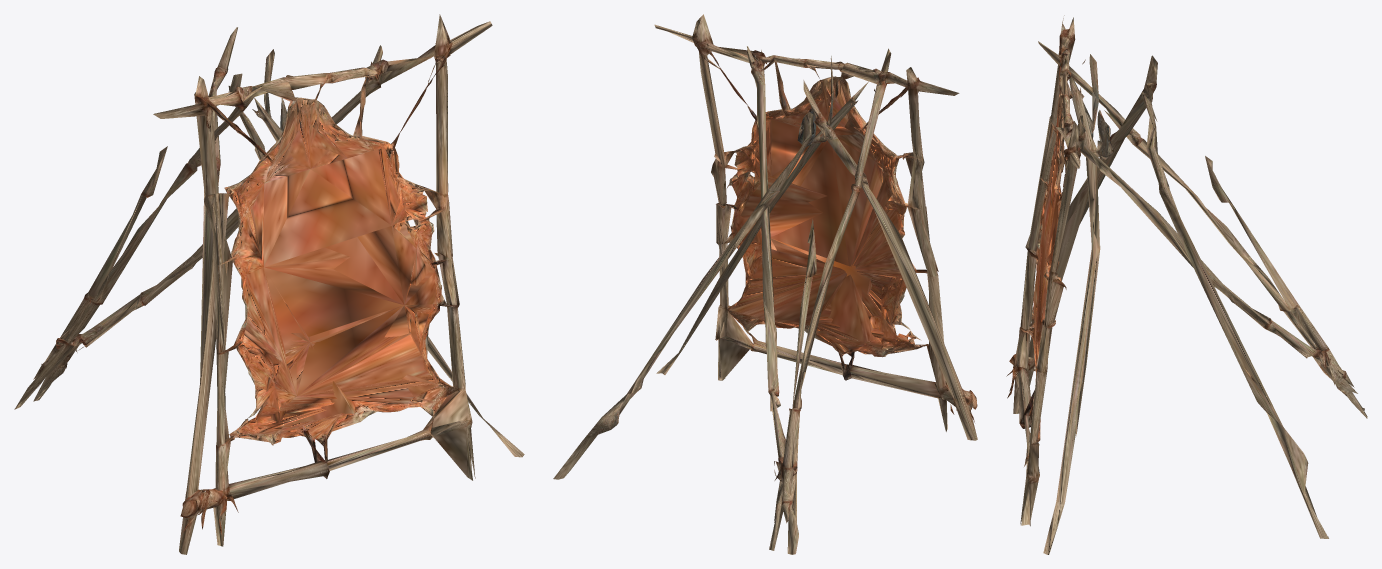
Rendered from fellgestell.glb.
3 views of the same model, side by side, from view 1: azimuth 30°, elevation 25°; view 2: azimuth 150°, elevation 25°; view 3: azimuth 270°, elevation 25° (orthographic). The views are drawn at different scales.
Bounding box in the file's own units: 1.61 × 1.89 × 1.53.
Materials: 1 (1 with a texture image).
